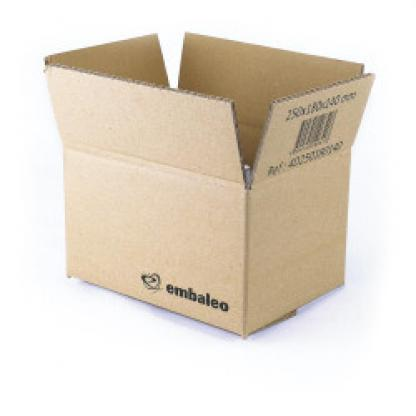box: (40, 25, 379, 341)
